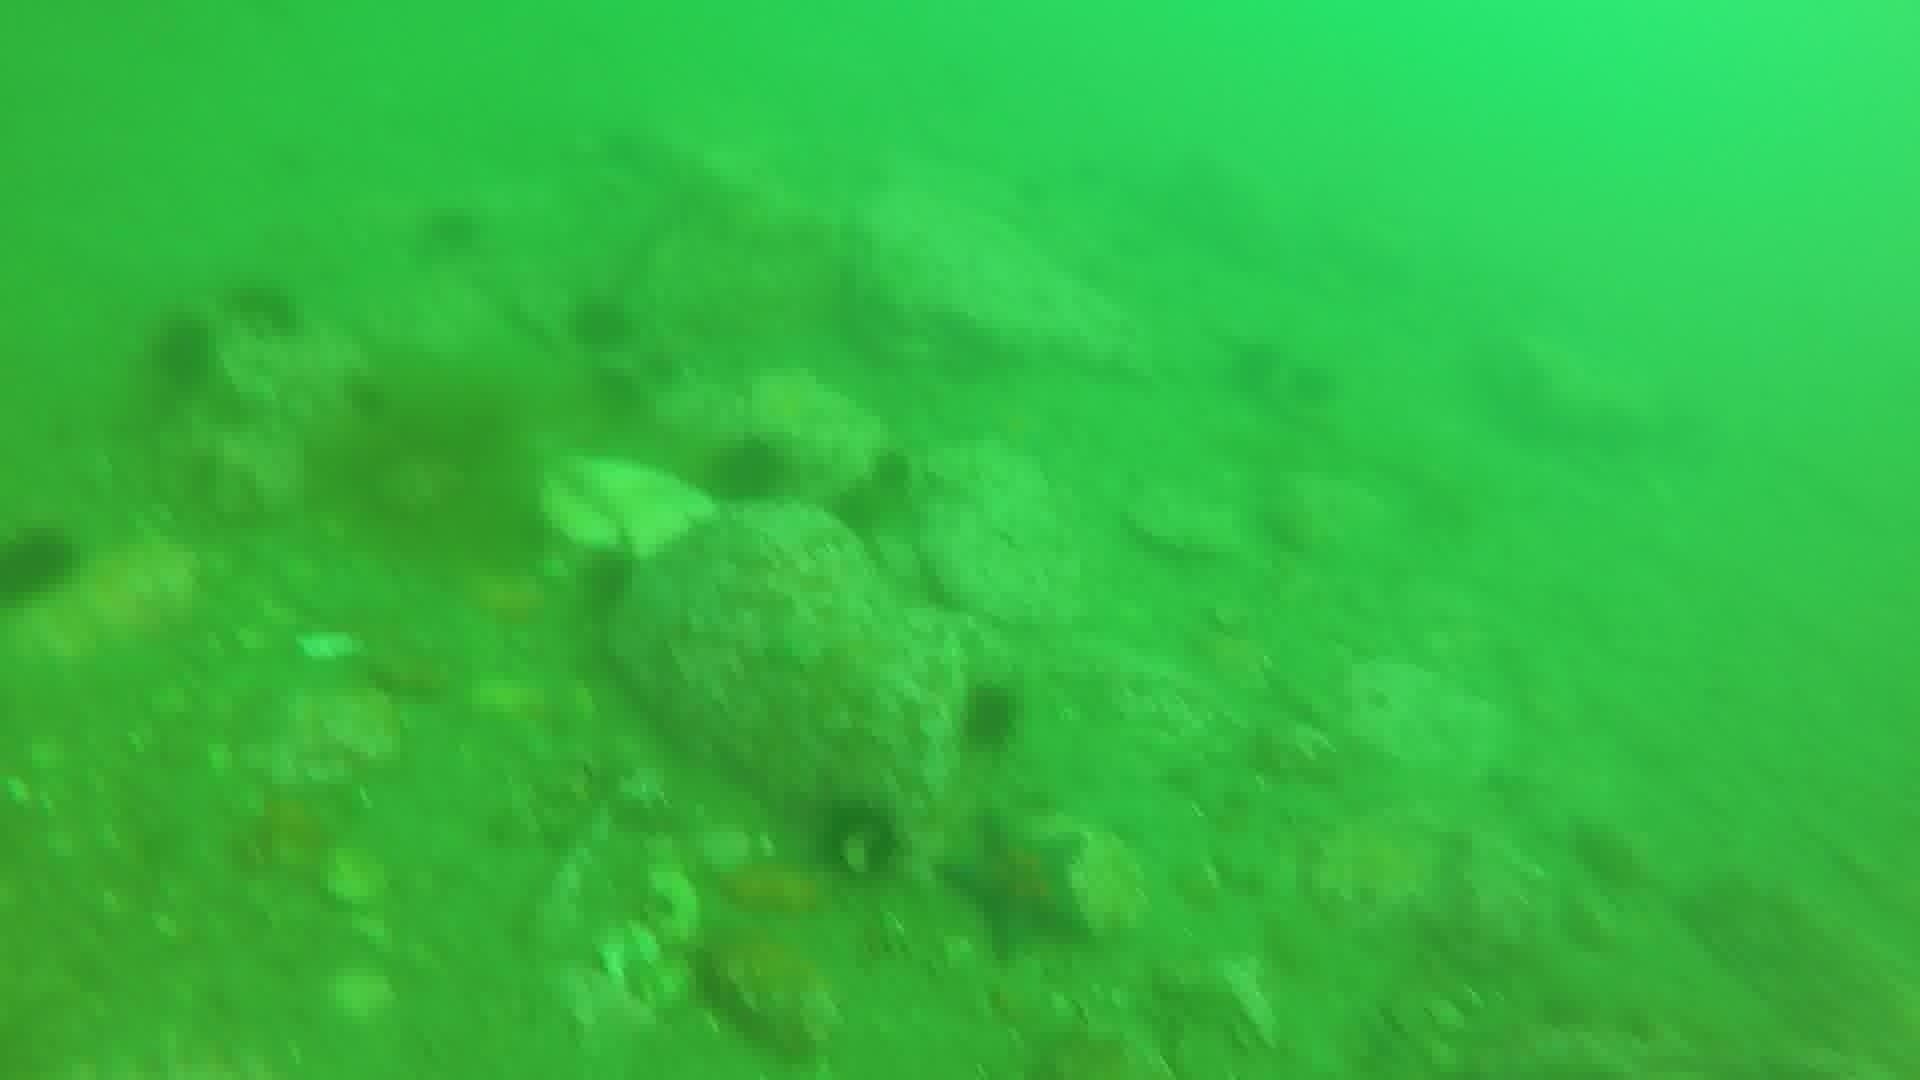echinus: (810, 795, 905, 884), (700, 433, 793, 512), (1, 521, 82, 608), (142, 310, 222, 392), (1567, 818, 1646, 891), (953, 676, 1027, 753), (224, 274, 306, 342), (571, 545, 642, 618), (564, 291, 640, 356), (413, 200, 487, 262), (862, 444, 922, 502)
starfish: (938, 810, 1095, 961)
